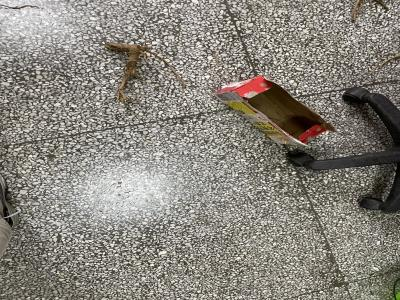Root: (105, 43, 185, 104)
